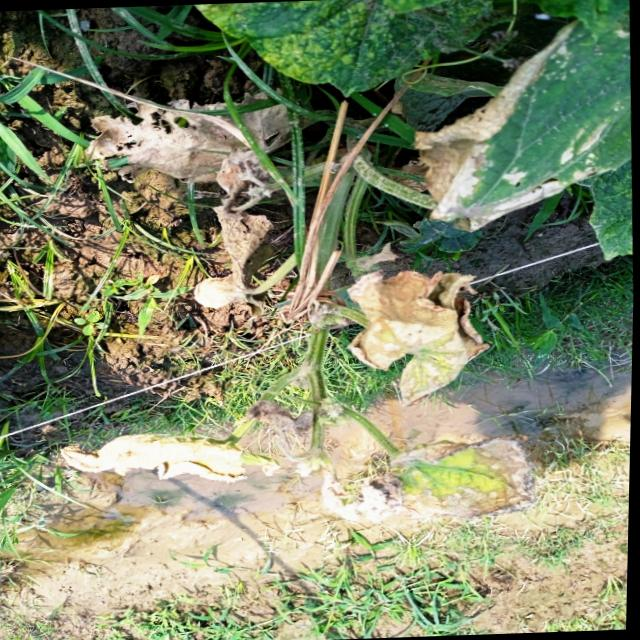Bacterial-Wilt: (345, 267, 494, 412), (194, 203, 277, 319), (215, 144, 271, 220)
